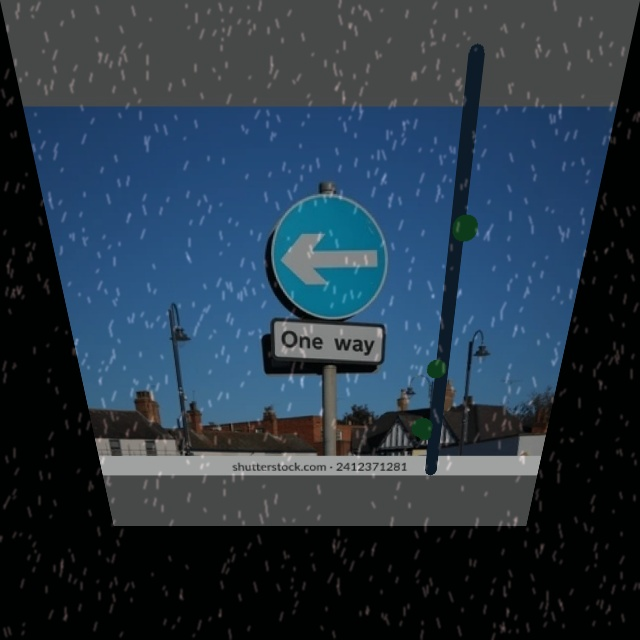Compulsory_Turn_Left: (259, 190, 393, 320)
